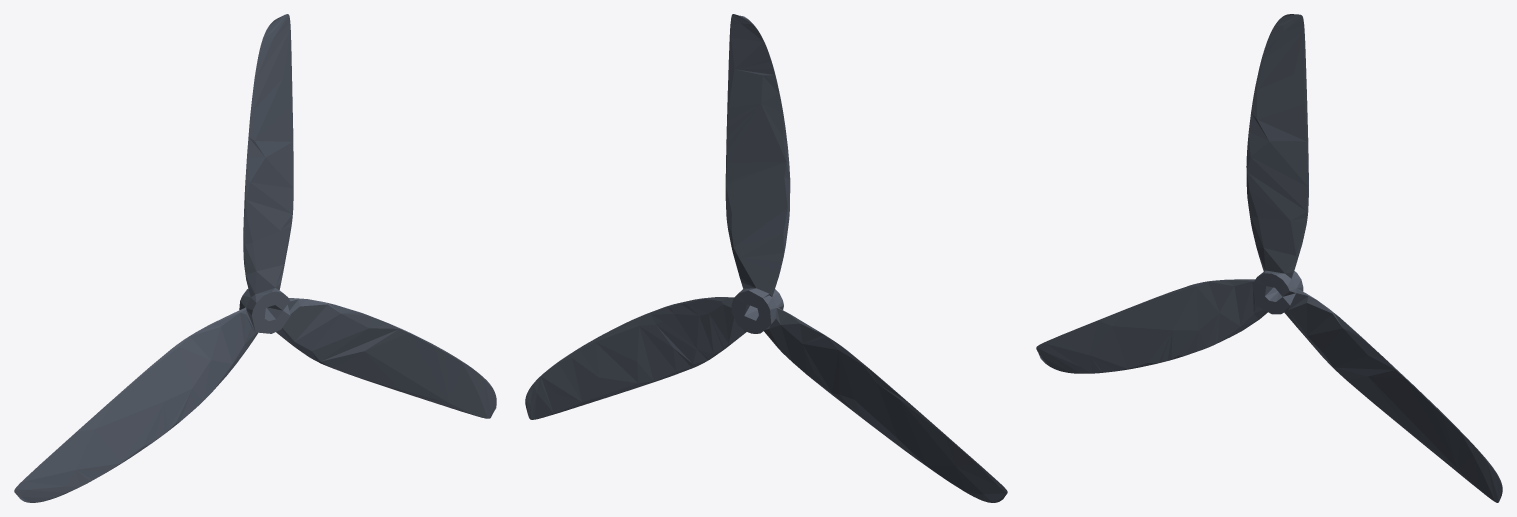
File: props_3.obj
3 views of the same model, side by side, from view 1: azimuth 30°, elevation 25°; view 2: azimuth 150°, elevation 25°; view 3: azimuth 330°, elevation 25° (orthographic). The views are drawn at different scales.
Size of the model in its own units: 0.1569 by 0.1412 by 0.0073.
